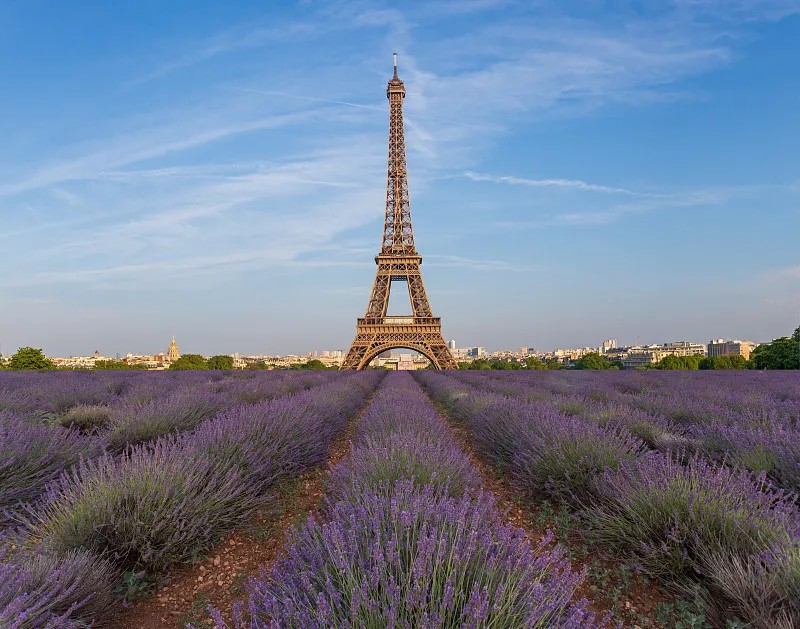Eiffel: (337, 51, 459, 370)
